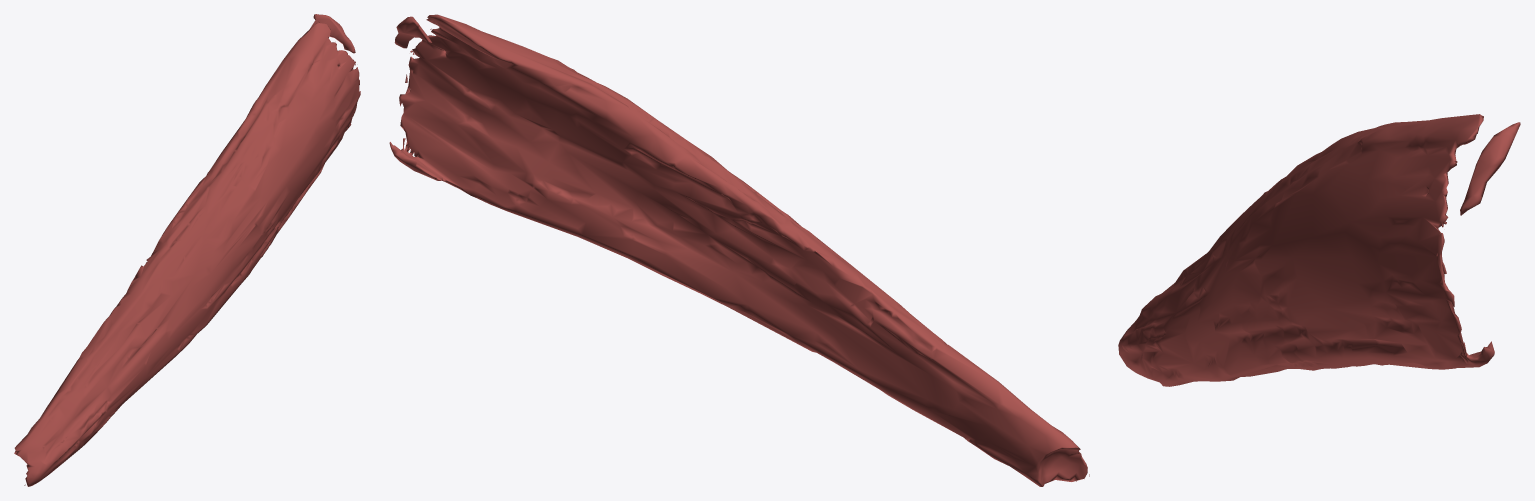
Rendered from FMA65198.glb.
3 views of the same model, side by side, from view 1: azimuth 30°, elevation 25°; view 2: azimuth 150°, elevation 25°; view 3: azimuth 270°, elevation 25° (orthographic). The views are drawn at different scales.
Visible parts, largest first — view 1: FMA65198; view 2: FMA65198; view 3: FMA65198.
Part boxes in pixels (box(x1,y1,x2,y2)): FMA65198: box(14, 14, 360, 486); FMA65198: box(389, 14, 1089, 486); FMA65198: box(1118, 114, 1520, 386).
Size of the model in its own units: 0.0424 by 0.03 by 0.0176.
